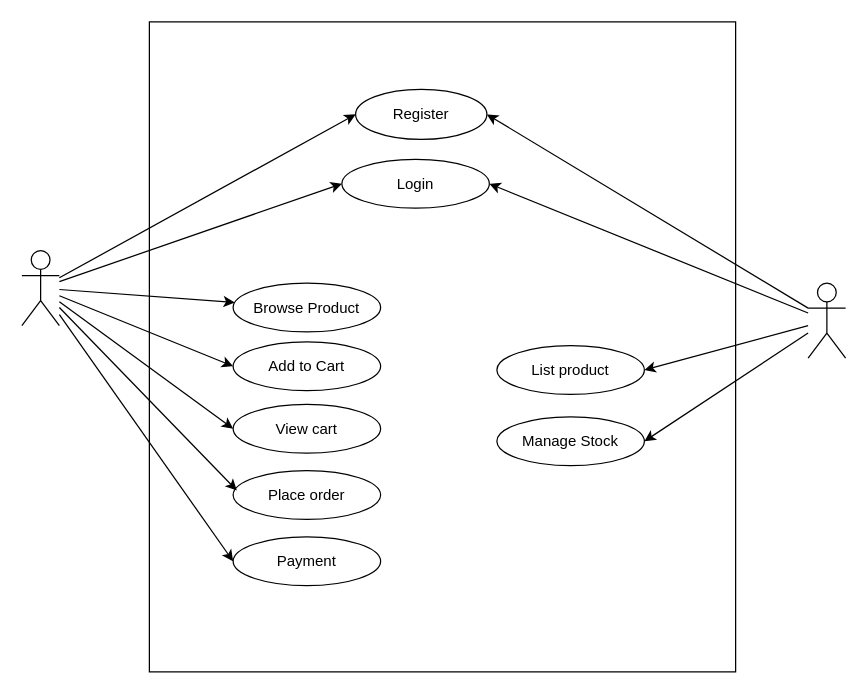
The diagram is 868 pixels wide and 694 high, and some of its shapes have lost their labels. Here are the shapes that lost their labels. From the top down, the centre of each, then its label:
At (40,287): "Buyer".
At (826,320): "Seller".
